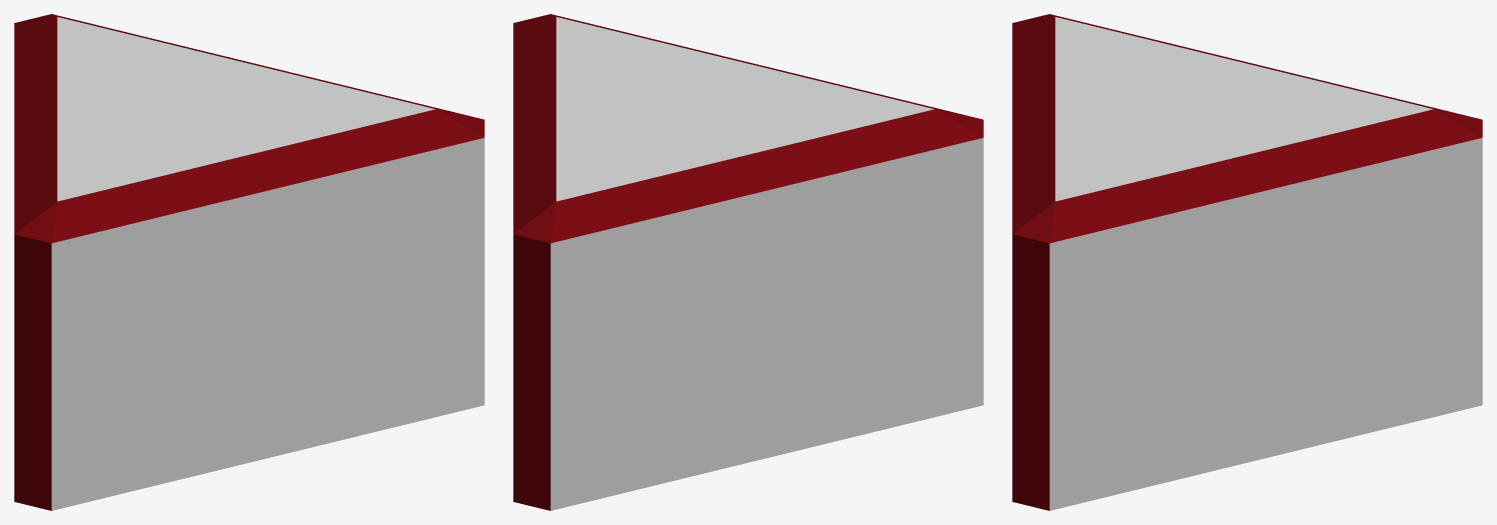
The model's file is TriangleObject.fbx.
3 views of the same model, side by side, from view 1: azimuth 30°, elevation 25°; view 2: azimuth 150°, elevation 25°; view 3: azimuth 270°, elevation 25° (orthographic).
Visible parts, largest first — view 1: Cube.005; view 2: Cube.005; view 3: Cube.005.
Boxes of the visible parts, <box> form: Cube.005: <box>14,14,484,510</box>; Cube.005: <box>513,14,983,510</box>; Cube.005: <box>1012,14,1482,510</box>.
Size of the model in its own units: 1.61 by 1 by 1.39.
